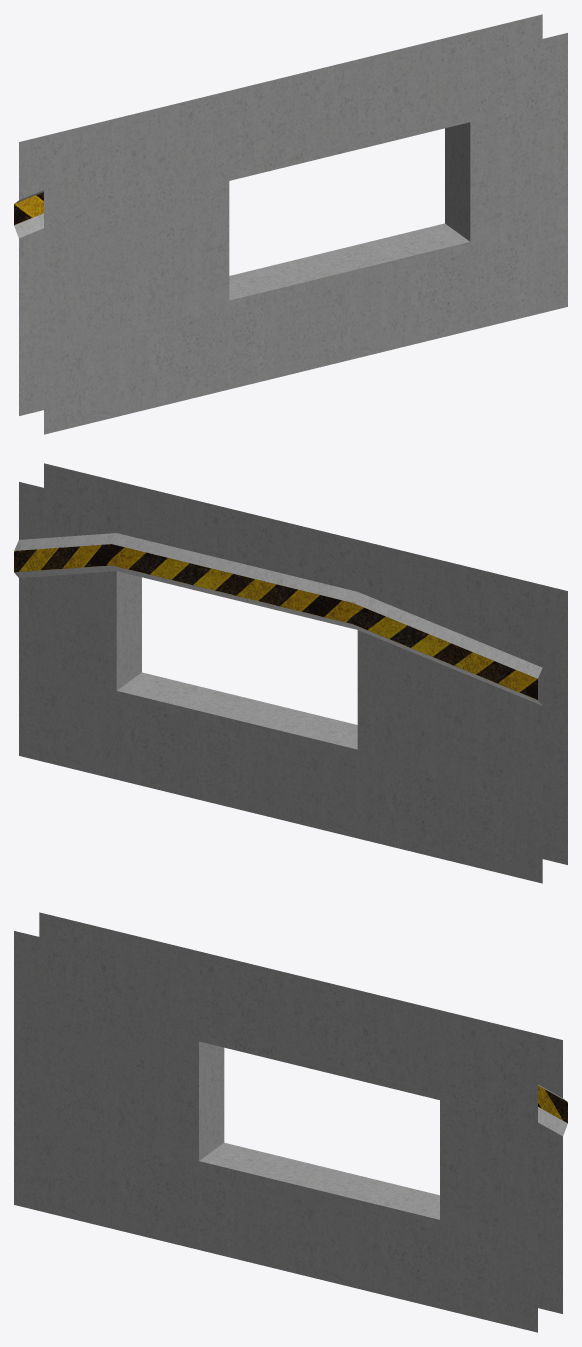
File: Wall_Window_04.FBX
3 renders of one model, top to bottom at view 1: azimuth 30°, elevation 25°; view 2: azimuth 150°, elevation 25°; view 3: azimuth 330°, elevation 25°, orthographic.
Visible parts, largest first — view 1: Wall_Window_04_mesh; view 2: Wall_Window_04_mesh; view 3: Wall_Window_04_mesh.
Boxes of the visible parts, left/top/right/bottom form: Wall_Window_04_mesh: left=14, top=14, right=567, bottom=434; Wall_Window_04_mesh: left=14, top=463, right=567, bottom=883; Wall_Window_04_mesh: left=14, top=912, right=567, bottom=1332.
Size of the model in its own units: 600 by 300 by 59.8.
Materials: 2 (2 with a texture image).
